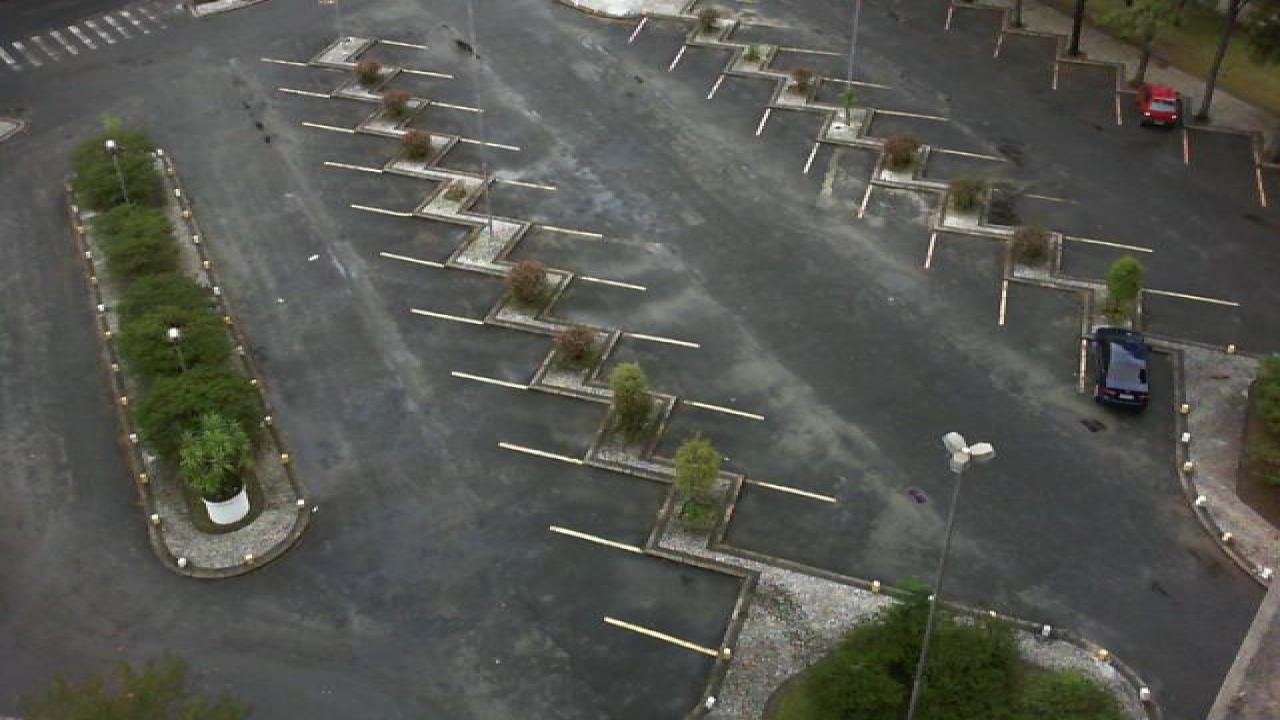Car: (1092, 324, 1154, 412), (1136, 81, 1184, 129)
